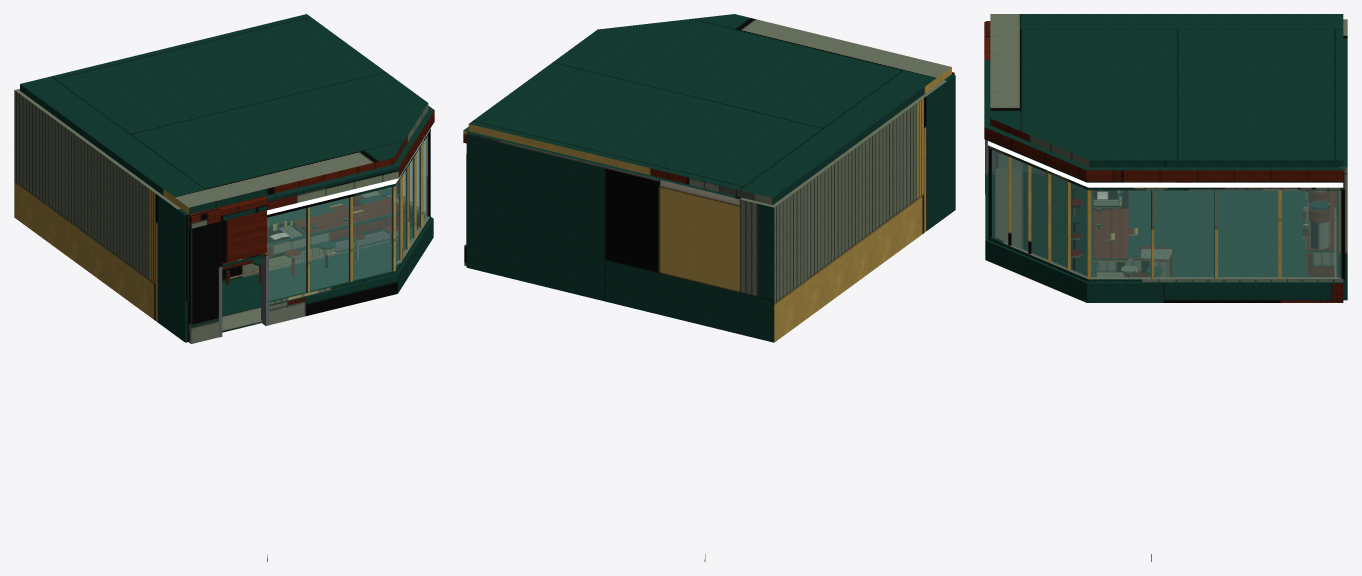
The model's file is MountainRoadCafe3D.fbx.
3 renders of one model, left to right at view 1: azimuth 30°, elevation 25°; view 2: azimuth 150°, elevation 25°; view 3: azimuth 270°, elevation 25°, orthographic. The views are drawn at different scales.
Visible parts, largest first — view 1: Cafe_Roof, Cafe_OpaqueWalls, Cafe_Floor, Cafe_GlazedPlinth, Cafe_DeepFascia, Cafe_Glass_02, Cafe_Glass_01, Cafe_Glass_00, Cafe_Mullions, Cafe_CounterTop, Cafe_DoorHeaderWall, Cafe_WindowRails (+5 smaller); view 2: Cafe_OpaqueWalls, Cafe_Roof; view 3: Cafe_Roof, Cafe_Floor, Cafe_GlazedPlinth, Cafe_DeepFascia, Cafe_Glass_09, Cafe_Glass_10, Cafe_Glass_11, Cafe_Glass_08, Cafe_Mullions, Cafe_WindowRails, Cafe_CounterTop, Cafe_LuminousBand (+11 smaller).
Boxes of the visible parts, x1=… form: Cafe_Roof: x1=20, y1=14, x2=428, y2=214; Cafe_OpaqueWalls: x1=14, y1=89, x2=219, y2=342; Cafe_Floor: x1=222, y1=198, x2=412, y2=332; Cafe_GlazedPlinth: x1=188, y1=190, x2=433, y2=343; Cafe_DeepFascia: x1=189, y1=105, x2=434, y2=228; Cafe_Glass_02: x1=353, y1=187, x2=392, y2=280; Cafe_Glass_01: x1=310, y1=197, x2=349, y2=290; Cafe_Glass_00: x1=267, y1=208, x2=306, y2=300; Cafe_Mullions: x1=265, y1=131, x2=430, y2=292; Cafe_CounterTop: x1=267, y1=191, x2=405, y2=247; Cafe_DoorHeaderWall: x1=220, y1=210, x2=266, y2=263; Cafe_WindowRails: x1=189, y1=128, x2=430, y2=323; Cafe_OpaqueWalls: x1=466, y1=72, x2=955, y2=342; Cafe_Roof: x1=468, y1=14, x2=951, y2=205; Cafe_Roof: x1=990, y1=14, x2=1343, y2=167; Cafe_Floor: x1=995, y1=154, x2=1339, y2=277; Cafe_GlazedPlinth: x1=985, y1=174, x2=1343, y2=302; Cafe_DeepFascia: x1=984, y1=21, x2=1343, y2=182; Cafe_Glass_09: x1=1154, y1=190, x2=1214, y2=278; Cafe_Glass_10: x1=1218, y1=190, x2=1278, y2=278; Cafe_Glass_11: x1=1281, y1=190, x2=1341, y2=278; Cafe_Glass_08: x1=1091, y1=190, x2=1150, y2=278; Cafe_Mullions: x1=988, y1=148, x2=1344, y2=278; Cafe_WindowRails: x1=988, y1=145, x2=1343, y2=281; Cafe_CounterTop: x1=1092, y1=190, x2=1172, y2=261; Cafe_LuminousBand: x1=988, y1=141, x2=1343, y2=187.
Size of the model in its own units: 10.09 by 14.64 by 10.29.
